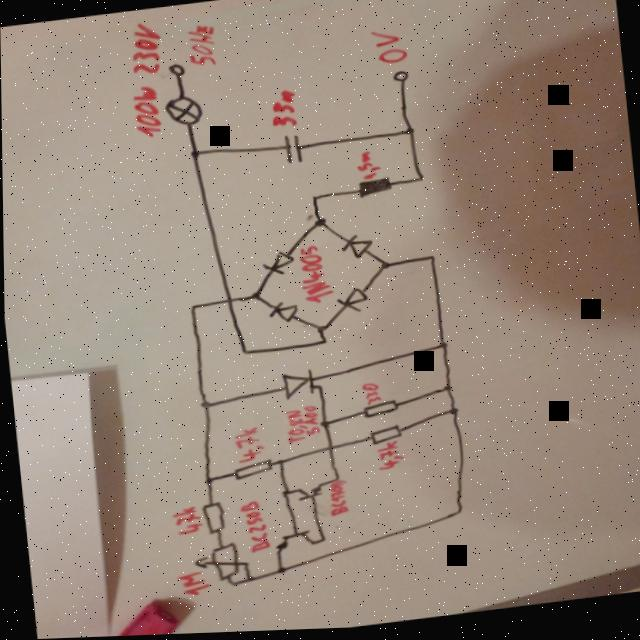capacitor: (270, 133, 312, 171)
crossover: (319, 444, 335, 460), (218, 295, 235, 310)
diode: (255, 249, 296, 286), (330, 284, 371, 320), (334, 234, 375, 267), (261, 301, 297, 330)
inductor: (349, 177, 395, 204)
junction: (181, 146, 202, 164), (440, 407, 460, 425), (309, 217, 327, 235), (398, 127, 417, 144), (447, 506, 465, 523), (437, 384, 454, 401), (430, 342, 448, 357), (309, 324, 327, 339), (269, 457, 287, 472), (193, 400, 210, 415), (314, 419, 331, 434), (305, 193, 321, 208), (375, 261, 390, 277), (269, 567, 286, 581), (410, 176, 425, 190), (197, 476, 213, 489), (233, 348, 249, 361), (182, 302, 197, 315), (246, 292, 262, 304), (274, 489, 288, 502), (313, 536, 326, 548), (239, 577, 252, 589), (421, 257, 435, 268), (313, 340, 328, 350), (221, 582, 234, 593), (327, 477, 339, 487)
resistor: (188, 542, 249, 586), (196, 498, 225, 542), (223, 461, 271, 486), (354, 401, 400, 426), (361, 426, 403, 450)
terminal: (162, 61, 187, 83), (386, 71, 412, 90)
text: (293, 244, 333, 310), (123, 22, 164, 81), (127, 85, 163, 144), (276, 405, 318, 450), (181, 24, 219, 72), (234, 503, 267, 558), (368, 27, 405, 71), (226, 426, 264, 468), (264, 90, 299, 134), (319, 481, 350, 522), (165, 505, 200, 541), (171, 570, 208, 602), (369, 442, 402, 477), (351, 152, 381, 185), (357, 383, 379, 410)
thyristor: (273, 364, 324, 407)
transistor: (267, 528, 312, 561), (288, 484, 321, 508)
